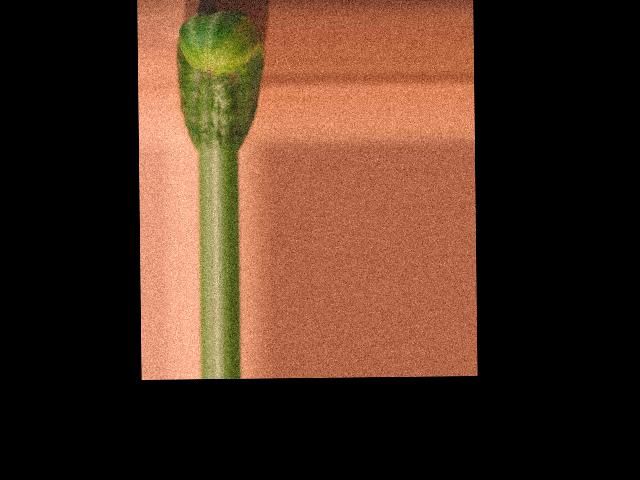cucumber: (175, 11, 265, 151)
